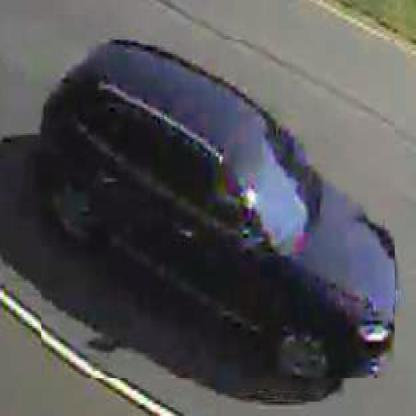car: (42, 41, 397, 381)
